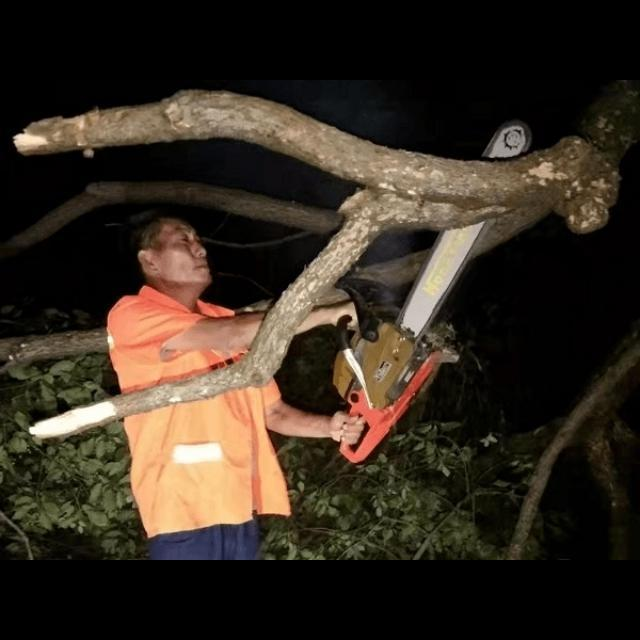fallen_tree: (11, 87, 639, 450)
